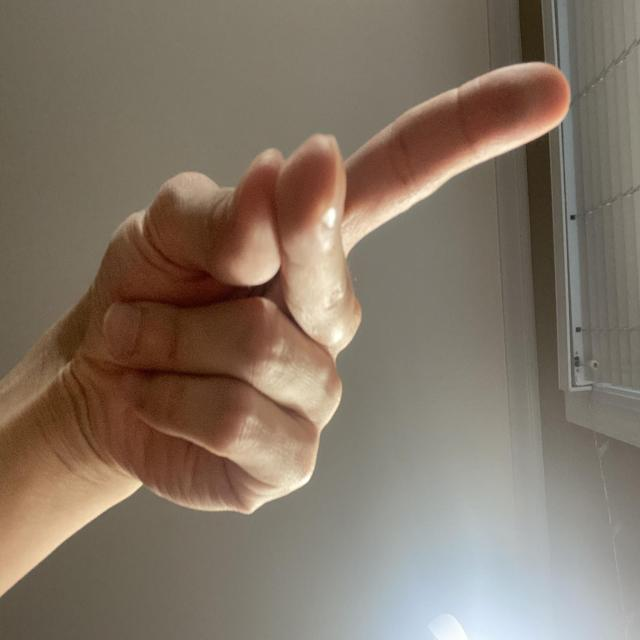P: (160, 81, 557, 640)
